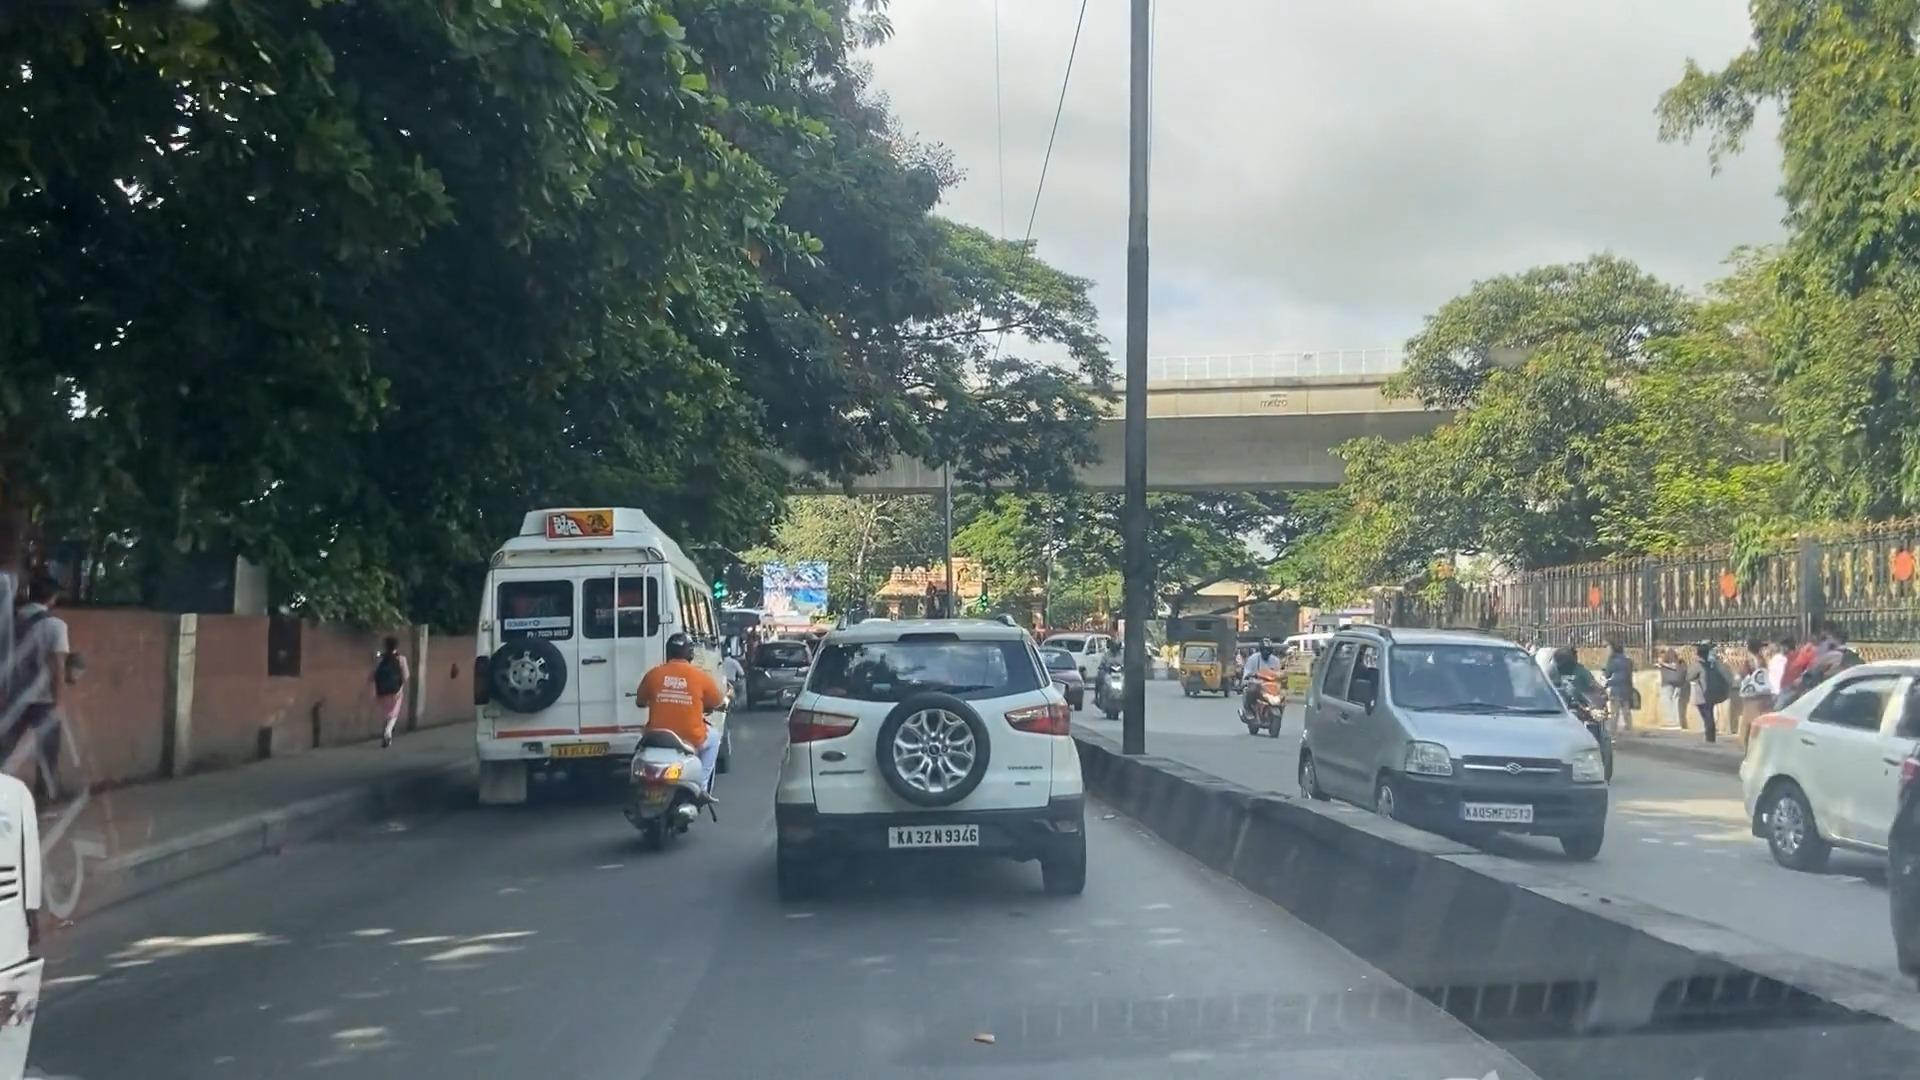HMV: (458, 488, 737, 855)
LMV: (789, 595, 1083, 910), (608, 591, 724, 885)
